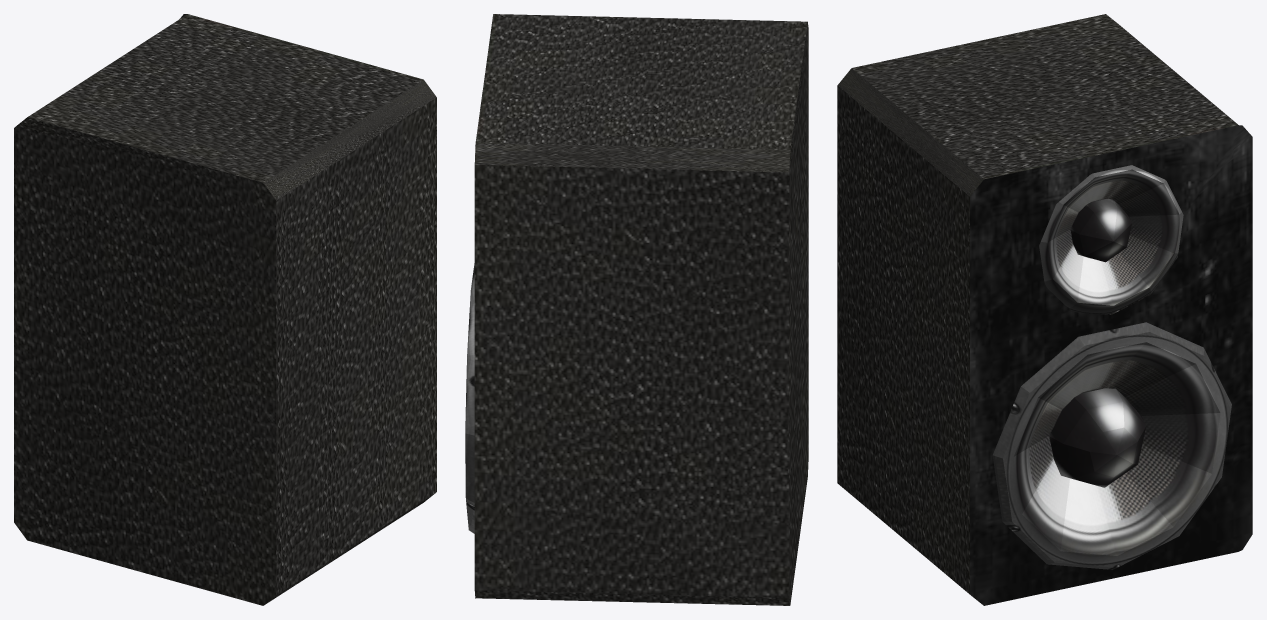
File: speaker.glb
3 renders of one model, left to right at view 1: azimuth 30°, elevation 25°; view 2: azimuth 150°, elevation 25°; view 3: azimuth 270°, elevation 25°, orthographic. The views are drawn at different scales.
Parts seen in each view (by area): view 1: polySurface11_lambert2_0; view 2: polySurface11_lambert2_0; view 3: polySurface11_lambert2_0.
Part boxes in pixels (x1=…): polySurface11_lambert2_0: x1=14, y1=14, x2=436, y2=605; polySurface11_lambert2_0: x1=465, y1=14, x2=808, y2=605; polySurface11_lambert2_0: x1=837, y1=14, x2=1252, y2=605.
Size of the model in its own units: 1.32 by 1.53 by 1.35.
Materials: 2 (2 with a texture image).
